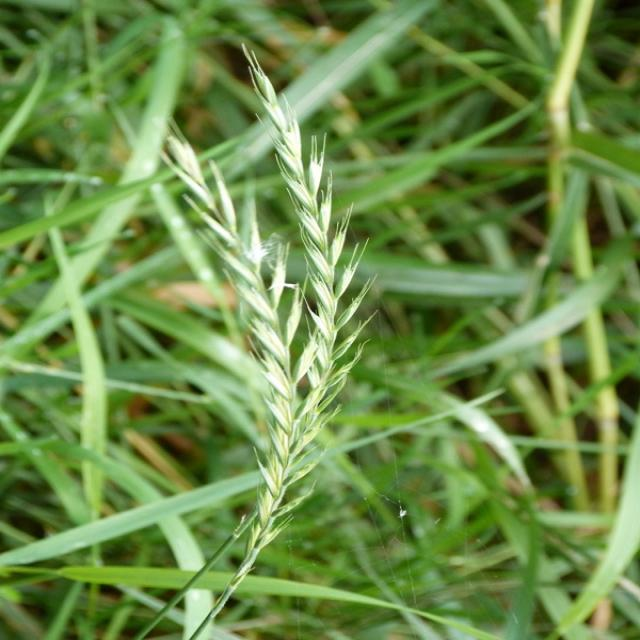Lolium: (3, 3, 634, 637), (152, 40, 383, 636)
